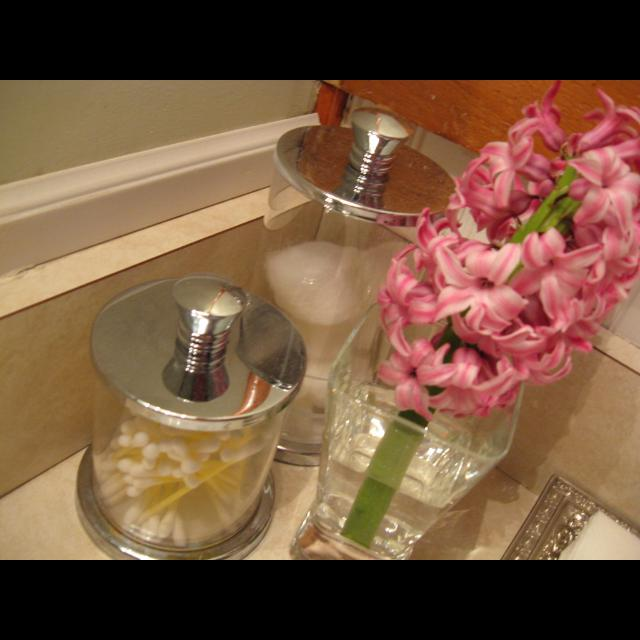Flower: (375, 80, 639, 423), (428, 240, 528, 334)
